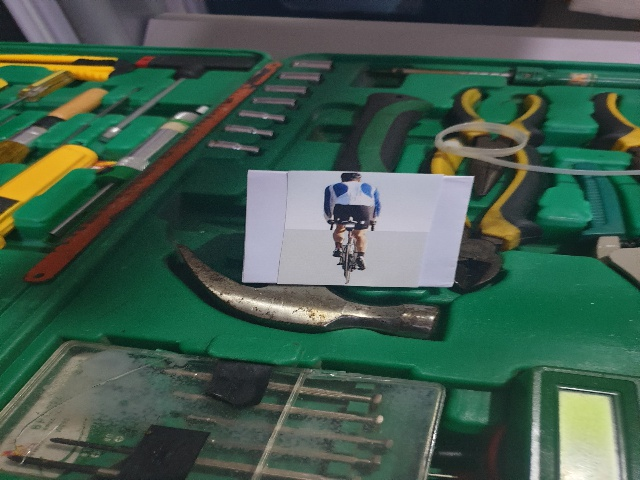Cyclist: (306, 171, 394, 287)
